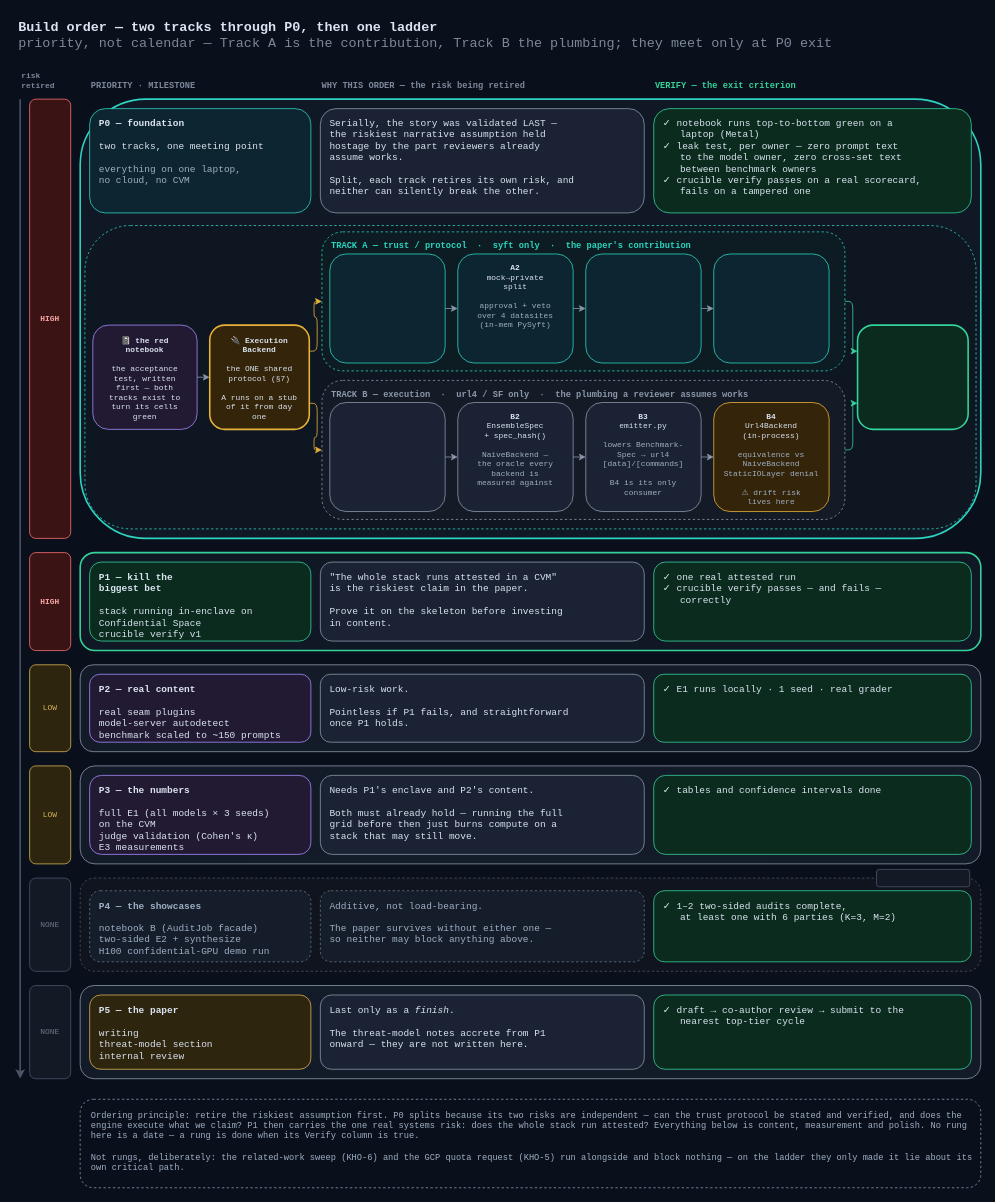
Image size: 995x1202. Some labels were removed from this diagram. The centre of each missing label's shape, as x and y in pixels:
"A1 BenchmarkSpec + CaseSets K=2 native — 47 prompts split into two owner sets" belongs at (387,308).
"A3 Scorecard schema per_set sealed + combined real Ed25519" belongs at (643,308).
"A4 crucible verify attestation behind a loudly-labeled MockAttestation" belongs at (771,308).
"B1 chat() + ModelEndpoint OpenAI wire shape only — mock default, mlx opt-in" belongs at (387,457).
"OPTIONAL" belongs at (923,878).
"✅ P0 exit notebook green veto demo what left the enclave tamper-fail cell" belongs at (912,377).
